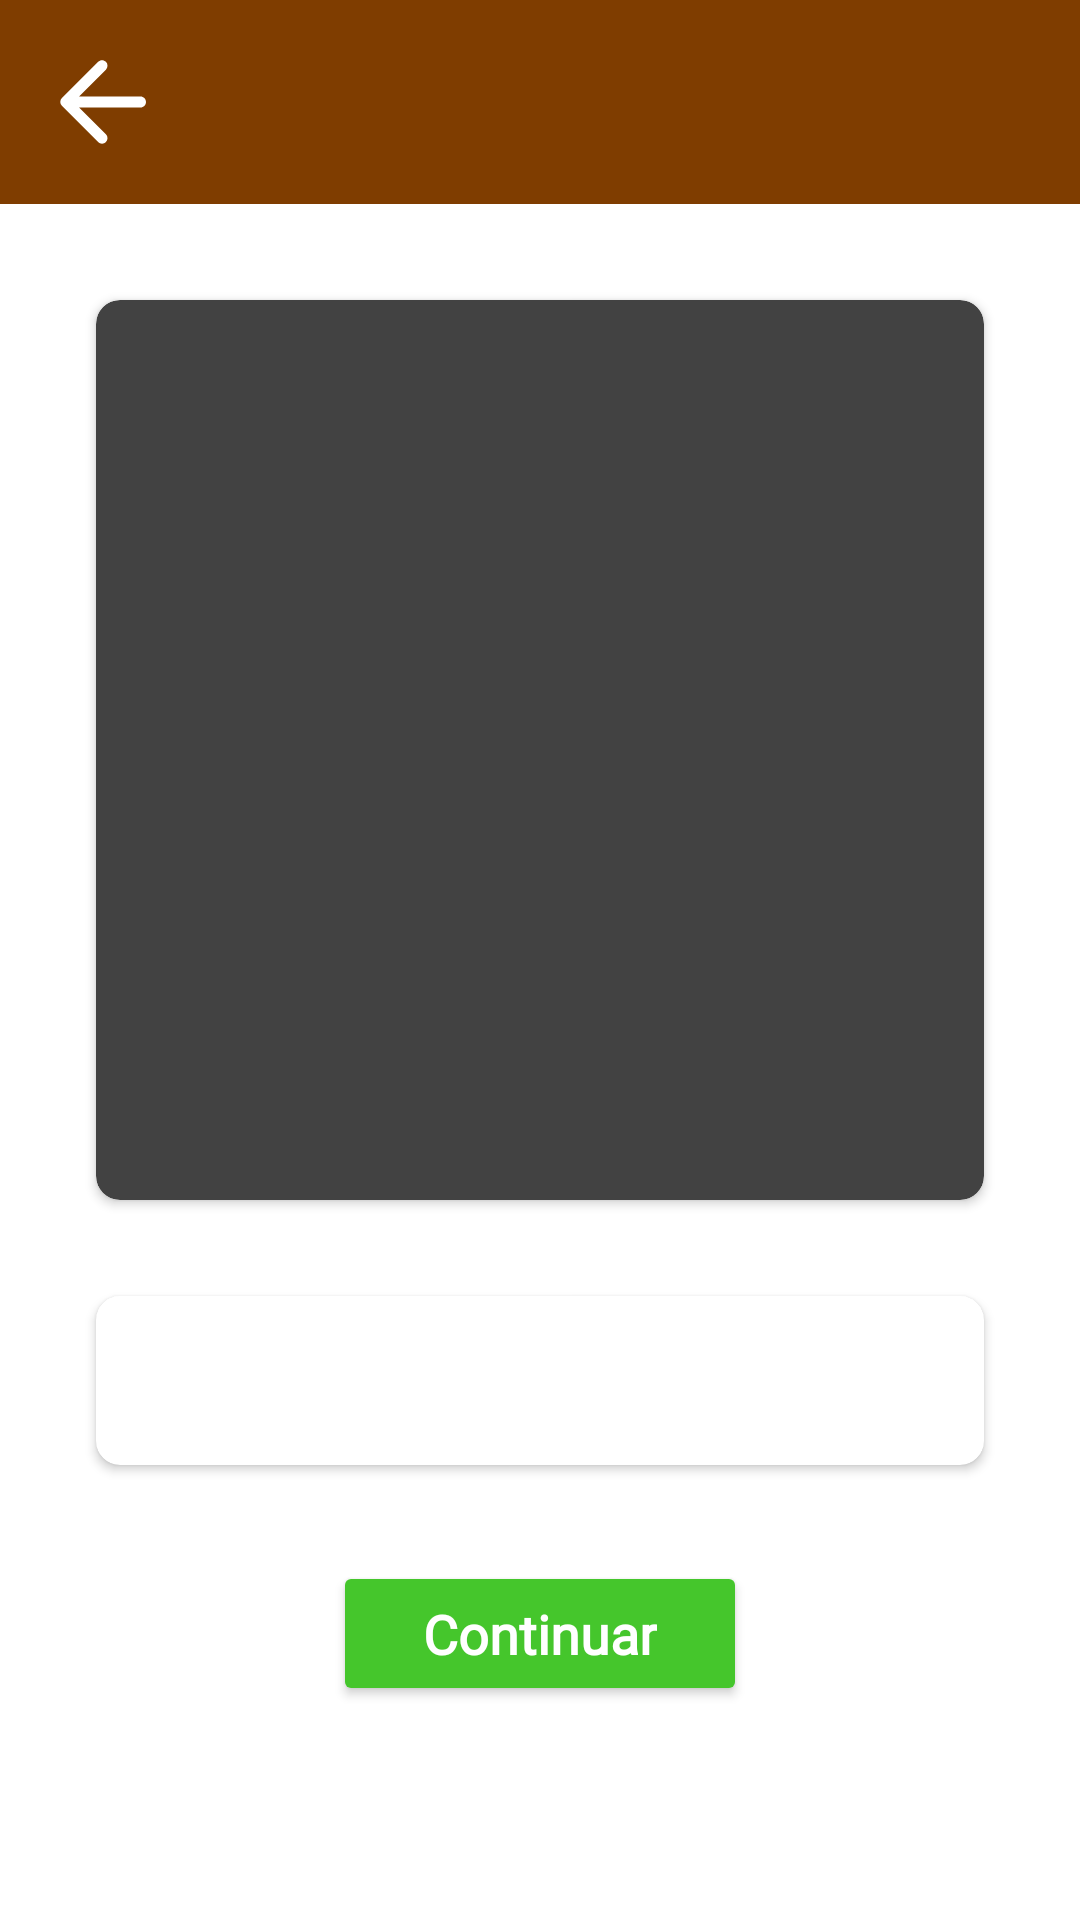

Icon click points for this 1080px x 1920px phone screenshot, format (x=x, y=y):
arrow back: (x=103, y=102)
